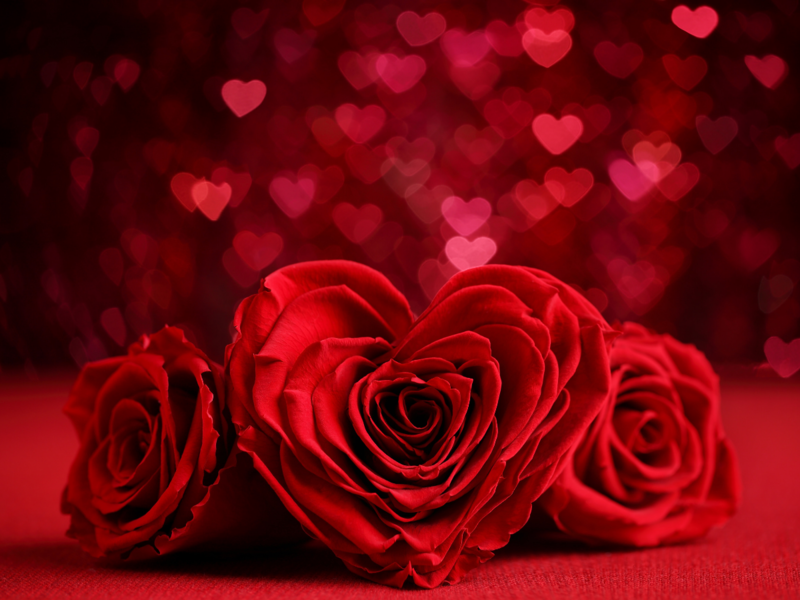rose: (241, 266, 600, 551), (65, 319, 220, 553), (586, 315, 738, 542)
